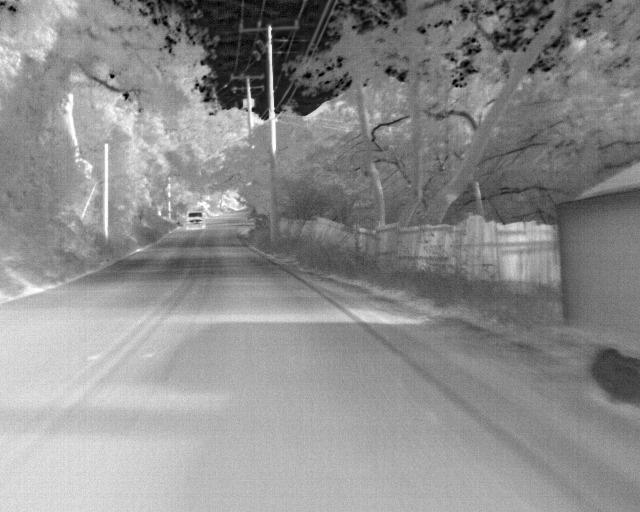car: (185, 210, 206, 230)
